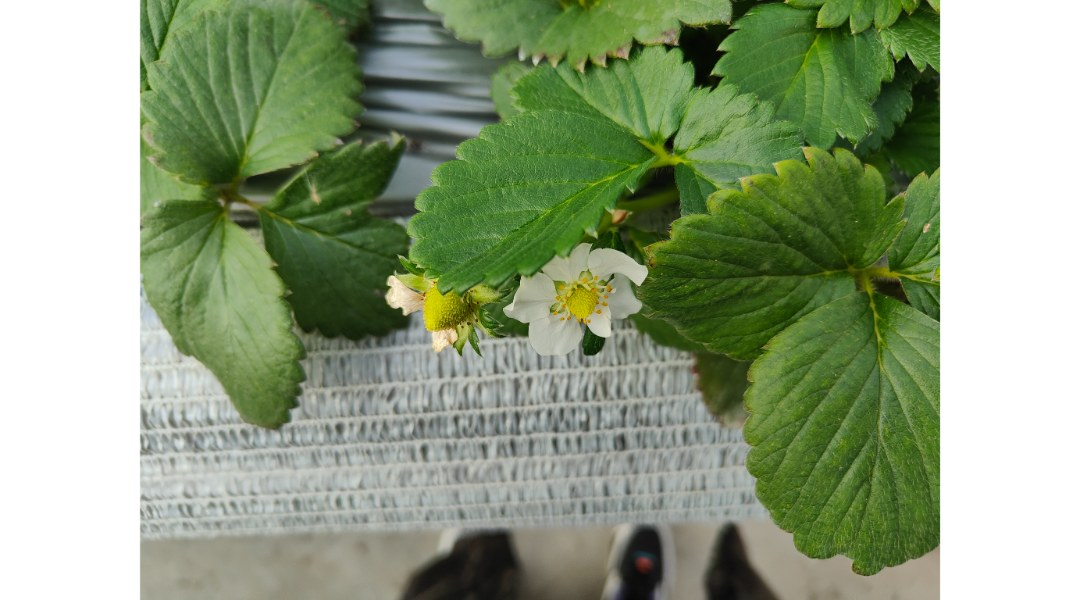berry: (382, 263, 500, 349)
flower: (512, 232, 647, 356)
